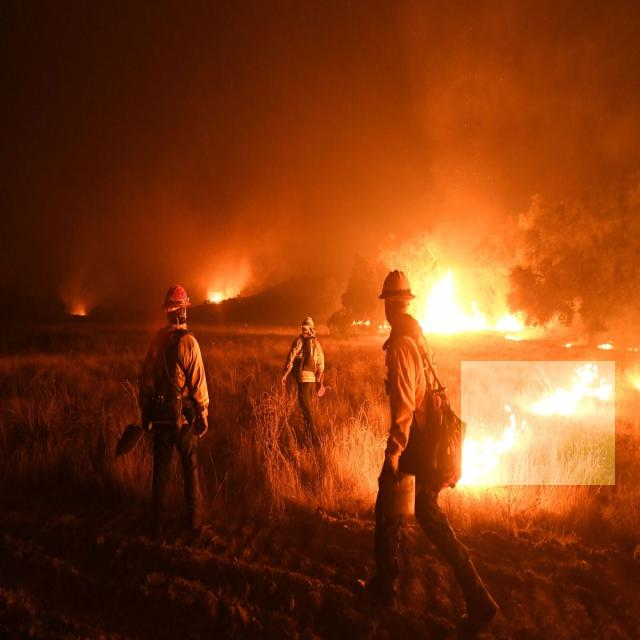Fire: (461, 361, 615, 485), (415, 268, 493, 334), (207, 292, 222, 304)
